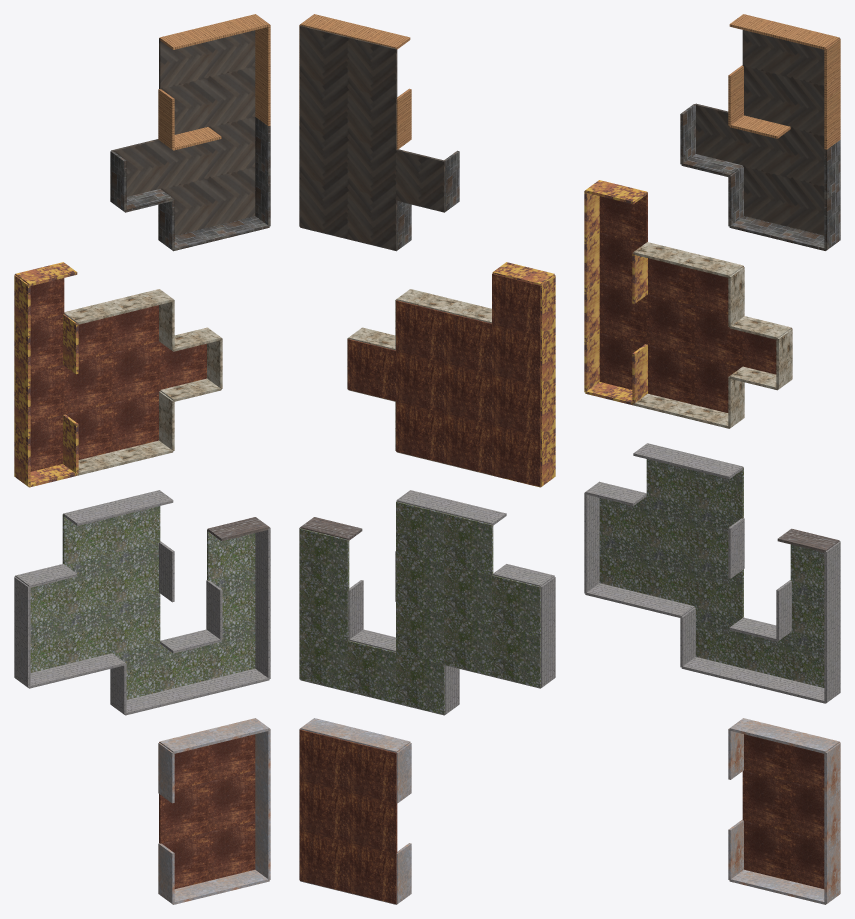
The model's file is room4.gltf.
3 views of the same model, side by side, from view 1: azimuth 30°, elevation 25°; view 2: azimuth 150°, elevation 25°; view 3: azimuth 330°, elevation 25° (orthographic).
Parts seen in each view (by area): view 1: Cube.092, Cube.129, Cube.105, Cube.135, Cube.134, Cube.091, Cube.093, Cube.126, Cube.103, Cube.137, Cube.090, Cube.128 (+84 smaller); view 2: Cube.099, Cube.107, Cube.134, Cube.132, Cube.089, Cube.100, Cube.136, Cube.098, Cube.102, Cube.106, Cube.088, Cube.121 (+53 smaller); view 3: Cube.090, Cube.126, Cube.134, Cube.092, Cube.091, Cube.087, Cube.123, Cube.102, Cube.106, Cube.125, Cube.136, Cube.129 (+84 smaller).
Part boxes in pixels (bbox=[...]): Cube.092: bbox=[112, 592, 160, 653]; Cube.129: bbox=[112, 341, 160, 402]; Cube.105: bbox=[208, 66, 255, 127]; Cube.135: bbox=[208, 770, 255, 831]; Cube.134: bbox=[159, 782, 208, 843]; Cube.091: bbox=[64, 604, 112, 664]; Cube.093: bbox=[112, 542, 158, 603]; Cube.126: bbox=[64, 353, 112, 414]; Cube.103: bbox=[208, 167, 255, 227]; Cube.137: bbox=[208, 820, 255, 880]; Cube.090: bbox=[64, 554, 112, 615]; Cube.128: bbox=[112, 391, 158, 451]; Cube.099: bbox=[299, 528, 349, 590]; Cube.107: bbox=[347, 37, 397, 99]; Cube.134: bbox=[347, 792, 397, 853]; Cube.132: bbox=[347, 741, 396, 803]; Cube.089: bbox=[444, 513, 493, 575]; Cube.100: bbox=[396, 149, 444, 211]; Cube.136: bbox=[347, 842, 396, 903]; Cube.098: bbox=[299, 579, 348, 640]; Cube.102: bbox=[347, 188, 396, 250]; Cube.106: bbox=[347, 88, 396, 149]; Cube.088: bbox=[492, 575, 540, 637]; Cube.121: bbox=[492, 273, 540, 335]; Cube.090: bbox=[646, 495, 694, 556]; Cube.126: bbox=[646, 294, 694, 355]; Cube.134: bbox=[742, 770, 790, 831]; Cube.092: bbox=[694, 557, 743, 618]; Cube.091: bbox=[646, 545, 694, 605]; Cube.087: bbox=[599, 534, 646, 594]; Cube.123: bbox=[599, 282, 646, 344]; Cube.102: bbox=[744, 167, 790, 227]; Cube.106: bbox=[744, 66, 790, 126]; Cube.125: bbox=[648, 344, 694, 404]; Cube.136: bbox=[744, 820, 790, 880]; Cube.129: bbox=[694, 306, 742, 367].
Size of the model in its own units: 20.2 by 68.2 by 2.1.
Materials: 10 (10 with a texture image).
